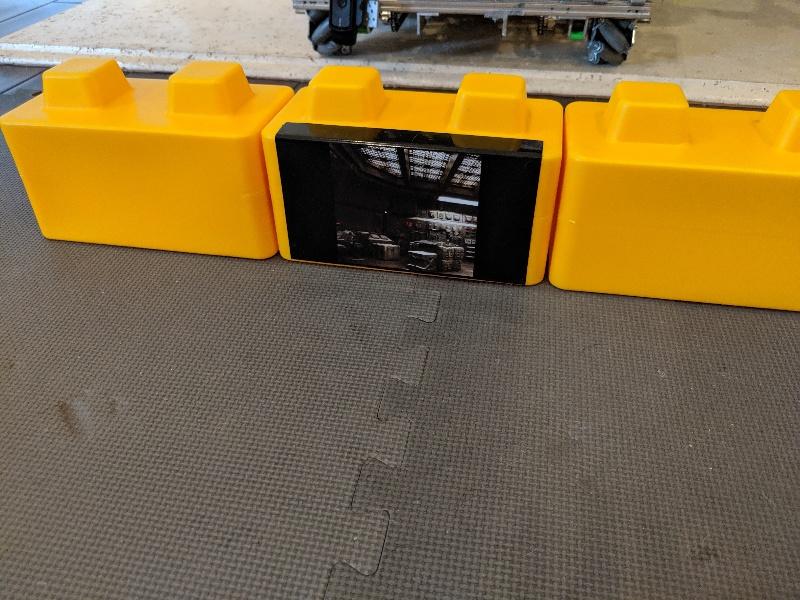Skystone: (268, 113, 548, 294)
